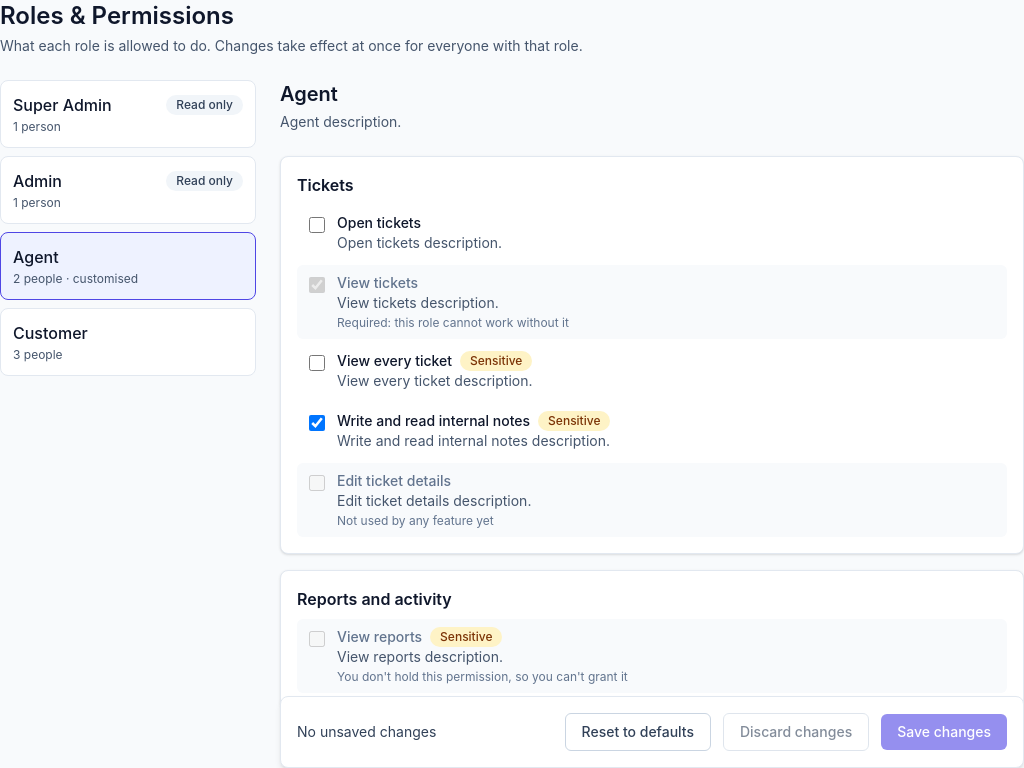
Test: RolesPage › is read-only for a role you may not change, and says why
expect the heading "Agent" is shown: met, box [280,82,338,106]
Click the button "Admin Read only 1 person": [128, 190] box [0,156,256,224]
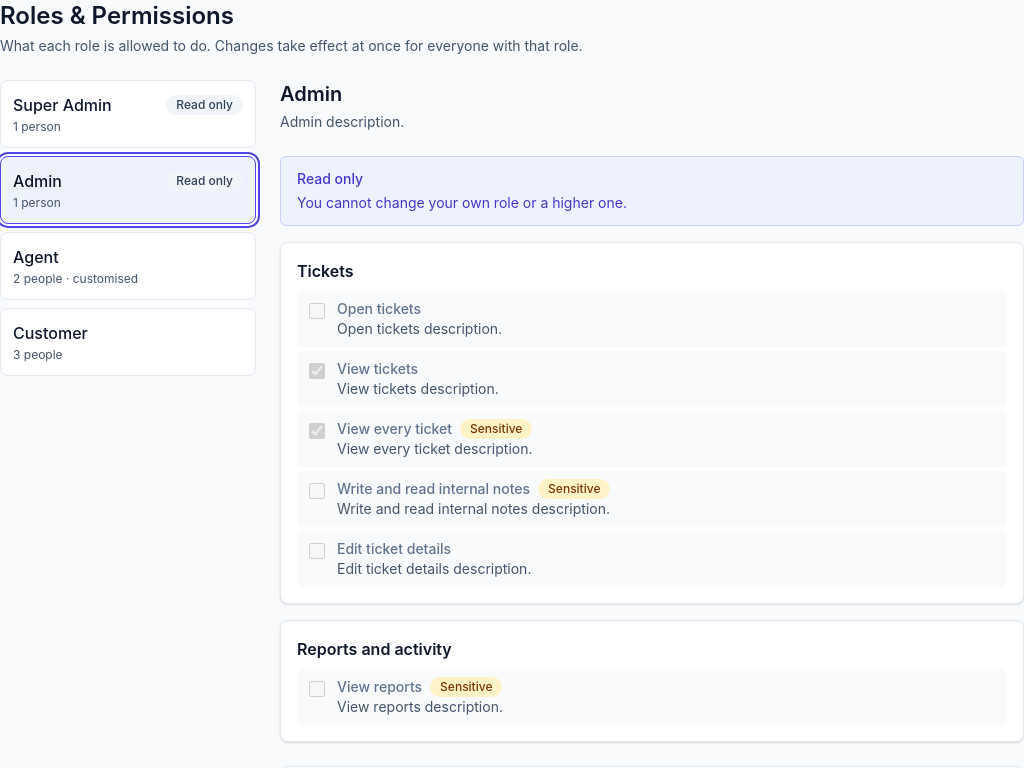
expect the heading "Admin" is shown: met, box [280,82,342,106]
expect the text "You cannot change your own role or a higher one." is shown: met, box [297,194,627,211]
expect the button "Save changes" is gone: met
